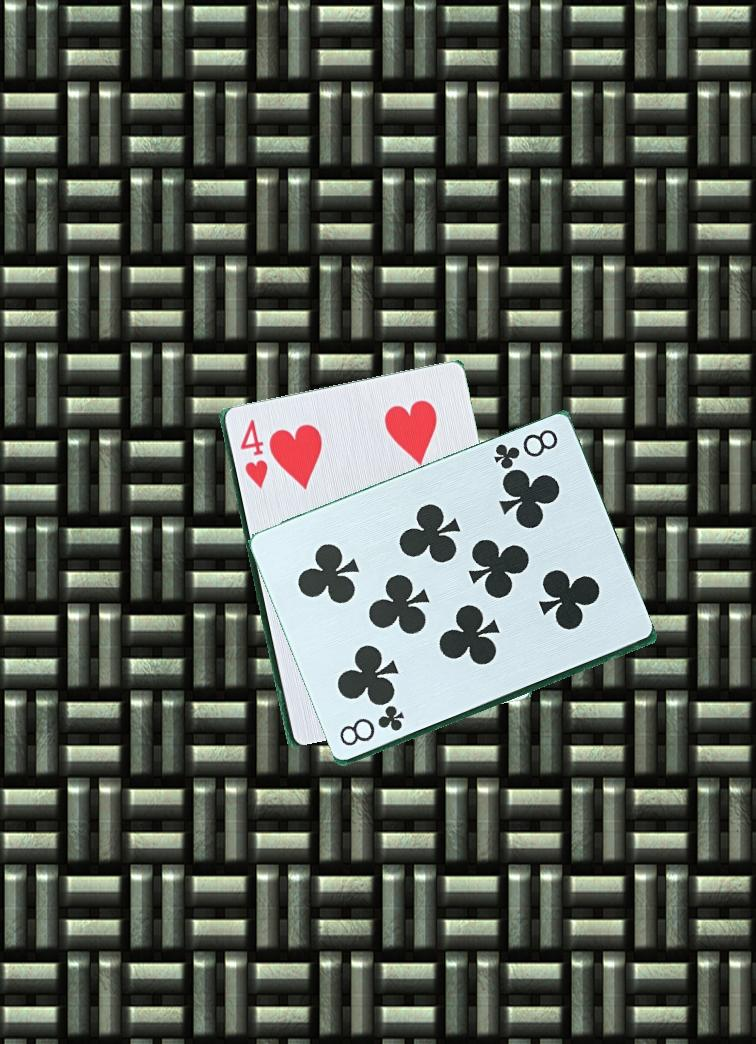4h: (236, 415, 269, 492)
8c: (487, 426, 561, 473), (335, 705, 408, 750)
